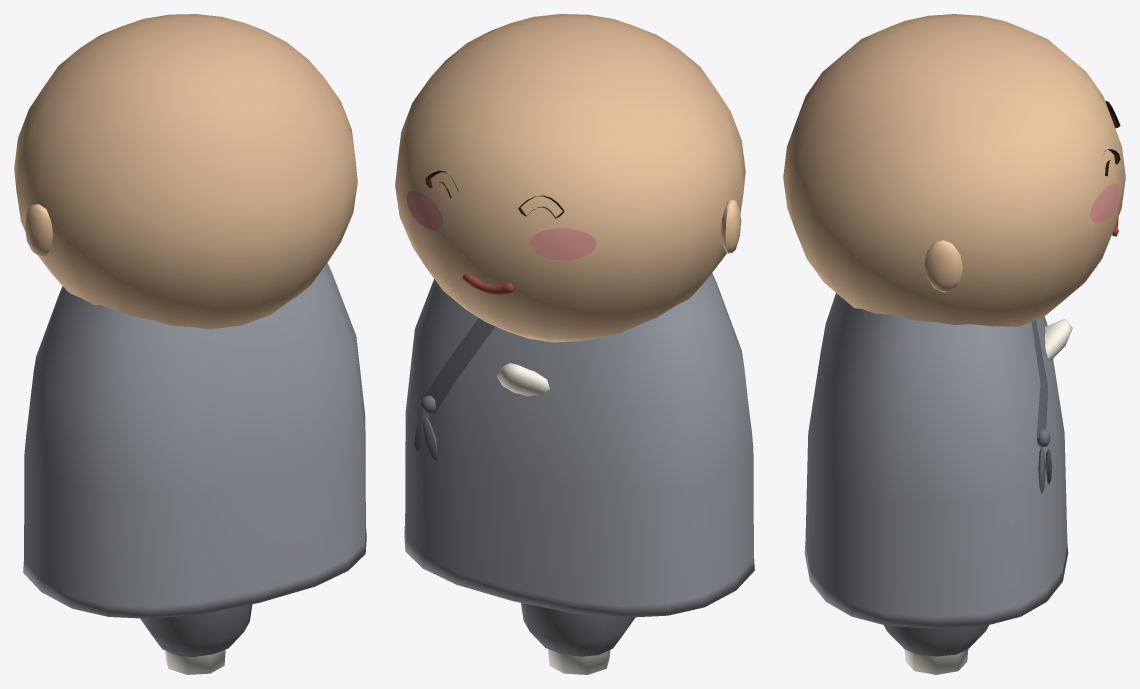
File: monk.glb
The picture shows the model from 3 angles, left to right: view 1: azimuth 30°, elevation 25°; view 2: azimuth 150°, elevation 25°; view 3: azimuth 270°, elevation 25°; orthographic projection. The views are drawn at different scales.
Visible parts, largest first — view 1: torso, head, trousers, leg; view 2: torso, head, trousers, face, trim, foot, leg; view 3: head, torso, trousers, trim, face, leg, foot.
Part boxes in pixels (left/top/right/bottom): torso: left=23, top=263, right=366, bottom=618; head: left=14, top=14, right=357, bottom=329; trousers: left=140, top=604, right=252, bottom=656; leg: left=164, top=649, right=225, bottom=674; torso: left=404, top=273, right=754, bottom=617; head: left=395, top=14, right=745, bottom=342; trousers: left=521, top=603, right=635, bottom=656; face: left=406, top=170, right=597, bottom=294; trim: left=414, top=318, right=495, bottom=461; foot: left=496, top=363, right=549, bottom=396; leg: left=548, top=649, right=610, bottom=674; head: left=783, top=14, right=1125, bottom=326; torso: left=804, top=293, right=1068, bottom=628; trousers: left=884, top=625, right=988, bottom=656; trim: left=1031, top=320, right=1052, bottom=493; face: left=1090, top=101, right=1120, bottom=236; leg: left=904, top=649, right=968, bottom=674; foot: left=1045, top=318, right=1072, bottom=360.
Bounding box in the file's own units: 0.4135 × 0.7663 × 0.3795.
